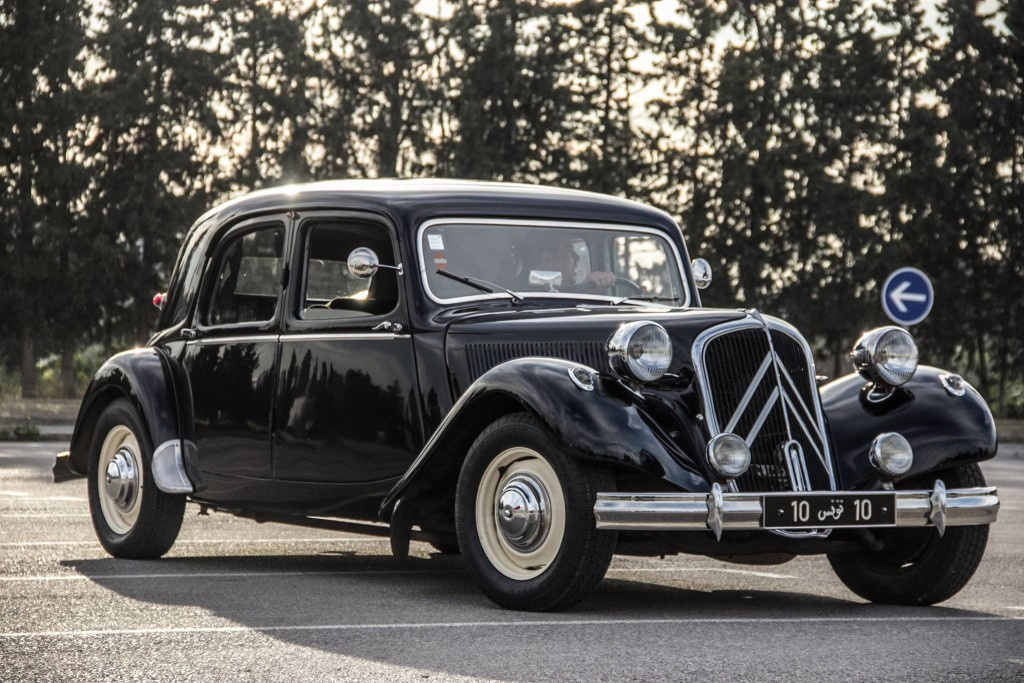LP: (762, 491, 898, 529)
